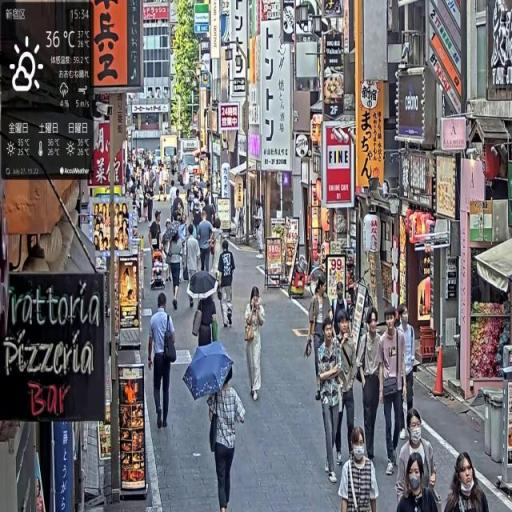person: (208, 373, 248, 512), (380, 307, 409, 478), (316, 320, 345, 484), (149, 288, 180, 431), (358, 310, 384, 468), (397, 409, 437, 506), (306, 277, 335, 404), (339, 426, 380, 512), (444, 451, 491, 512), (397, 304, 418, 432), (245, 285, 267, 403), (216, 238, 237, 331), (168, 227, 185, 312), (198, 210, 215, 275)
